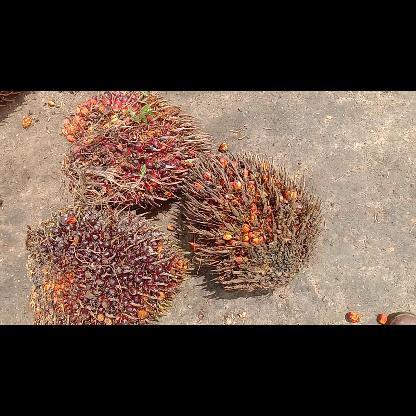Kurang masak: (24, 210, 186, 324)
TBS masak: (61, 90, 212, 212)
Terlalu masak: (178, 152, 322, 294)
